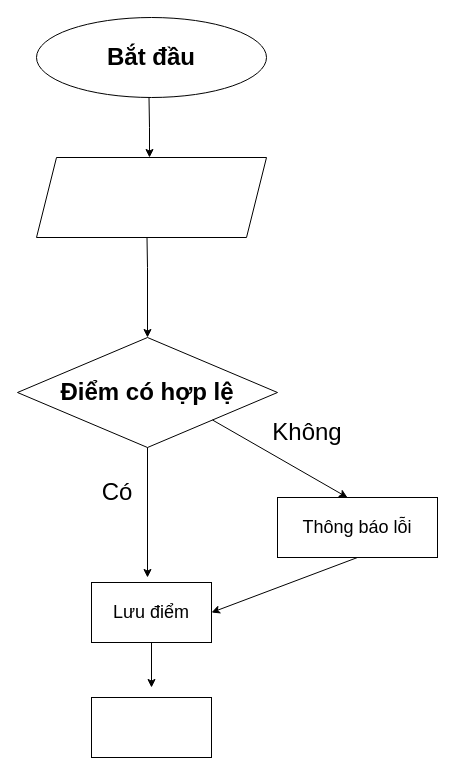
This 455x775 diagram has some shape labels left out. The shapes that lost their labels are listed below. From the top down, each one's centre as x and y in pixels, then its label:
At pixel 151 197: "sinh viên nhập điểm".
At pixel 151 727: "Kết thúc".
